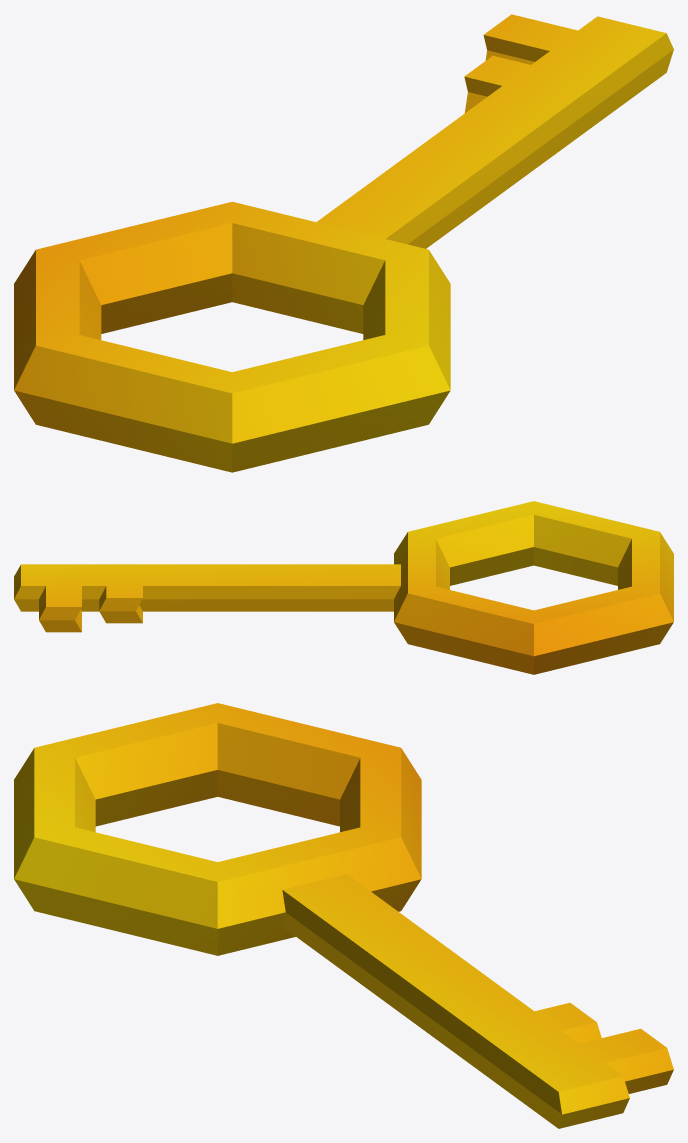
File: obj_key_anyaGupta_01.glb
3 renders of one model, top to bottom at view 1: azimuth 30°, elevation 25°; view 2: azimuth 150°, elevation 25°; view 3: azimuth 270°, elevation 25°, orthographic. The views are drawn at different scales.
Visible parts, largest first — view 1: Torus; view 2: Torus; view 3: Torus.
Part boxes in pixels (x1=…): Torus: x1=14, y1=14, x2=673, y2=472; Torus: x1=14, y1=501, x2=673, y2=674; Torus: x1=14, y1=703, x2=673, y2=1128.
Bounding box in the file's own units: 4.83 × 0.433 × 3.51.
Materials: 1 (1 with a texture image).
